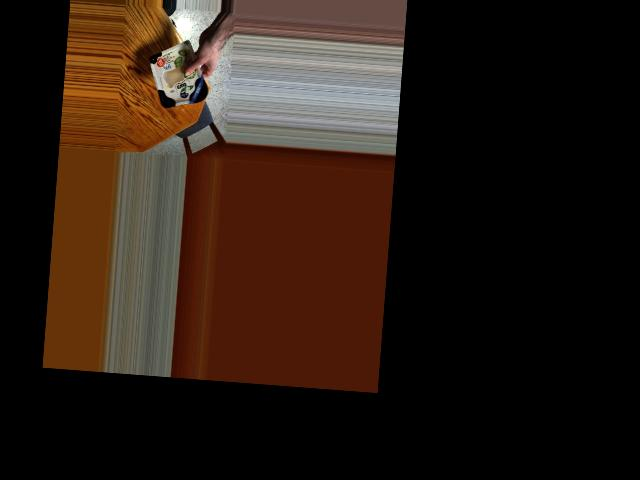cheese: (147, 49, 208, 114)
